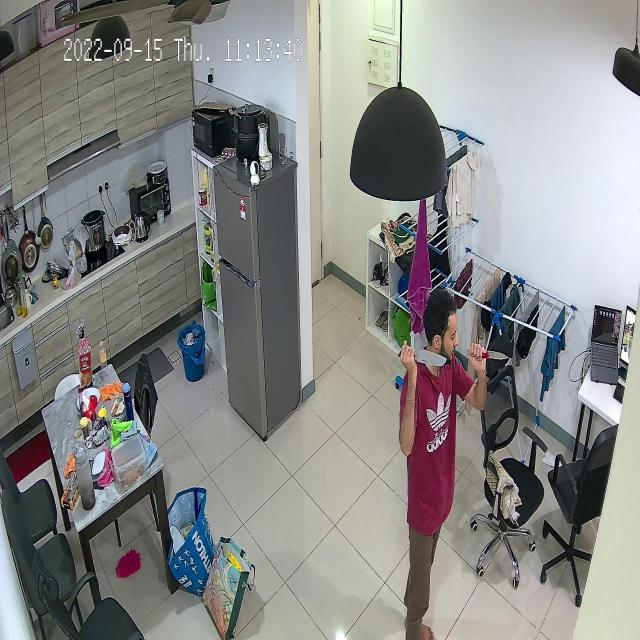Knife: (398, 342, 458, 372)
